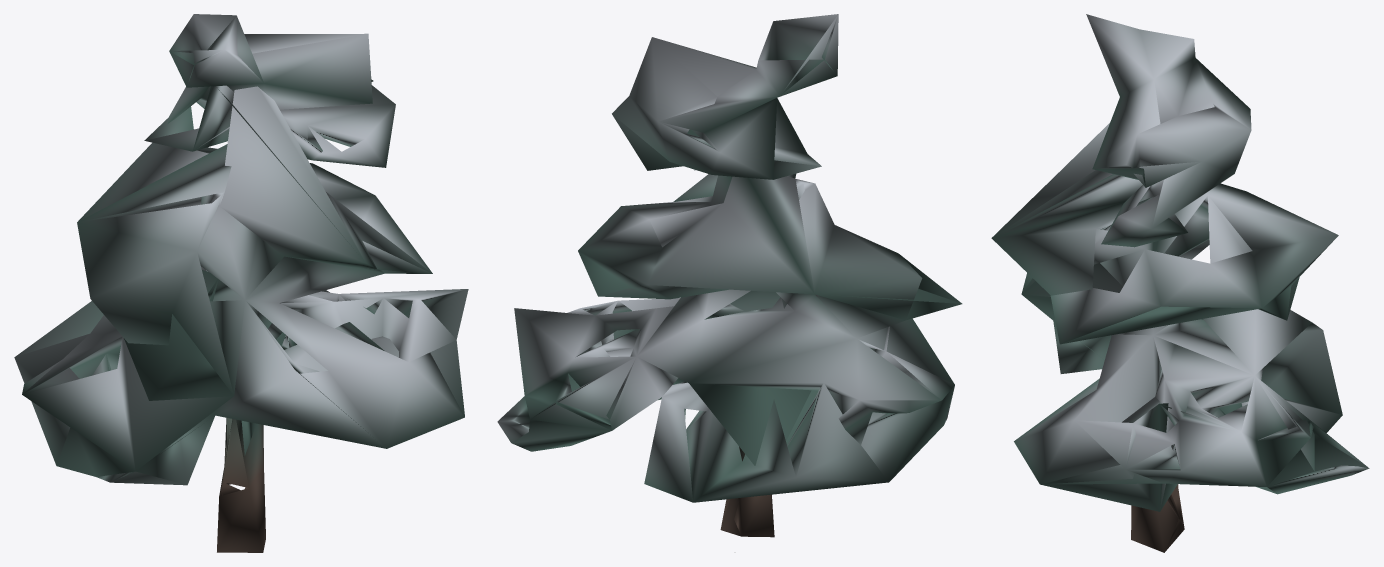
The model's file is aholo-g1-fir-distant.glb.
The picture shows the model from 3 angles, left to right: view 1: azimuth 30°, elevation 25°; view 2: azimuth 150°, elevation 25°; view 3: azimuth 270°, elevation 25°; orthographic projection. The views are drawn at different scales.
Visible parts, largest first — view 1: geometry_0; view 2: geometry_0; view 3: geometry_0.
Boxes of the visible parts, x1,y1,x2,y2 form: geometry_0: [14, 14, 468, 552]; geometry_0: [497, 14, 962, 537]; geometry_0: [991, 14, 1369, 552].
Bounding box in the file's own units: 4.89 × 5.7 × 3.82.
